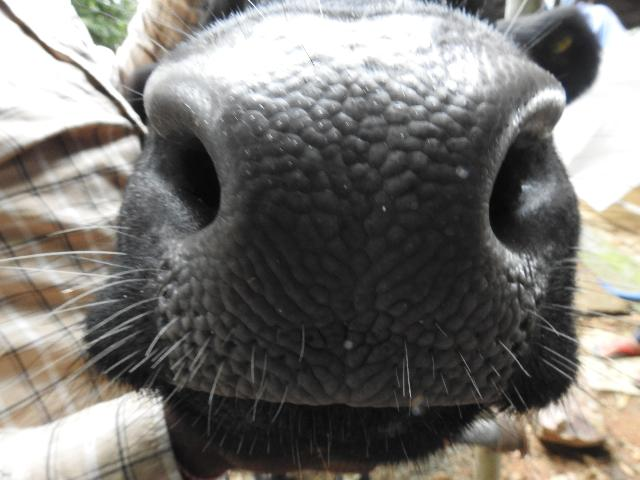Muzzle: (206, 70, 484, 380)
